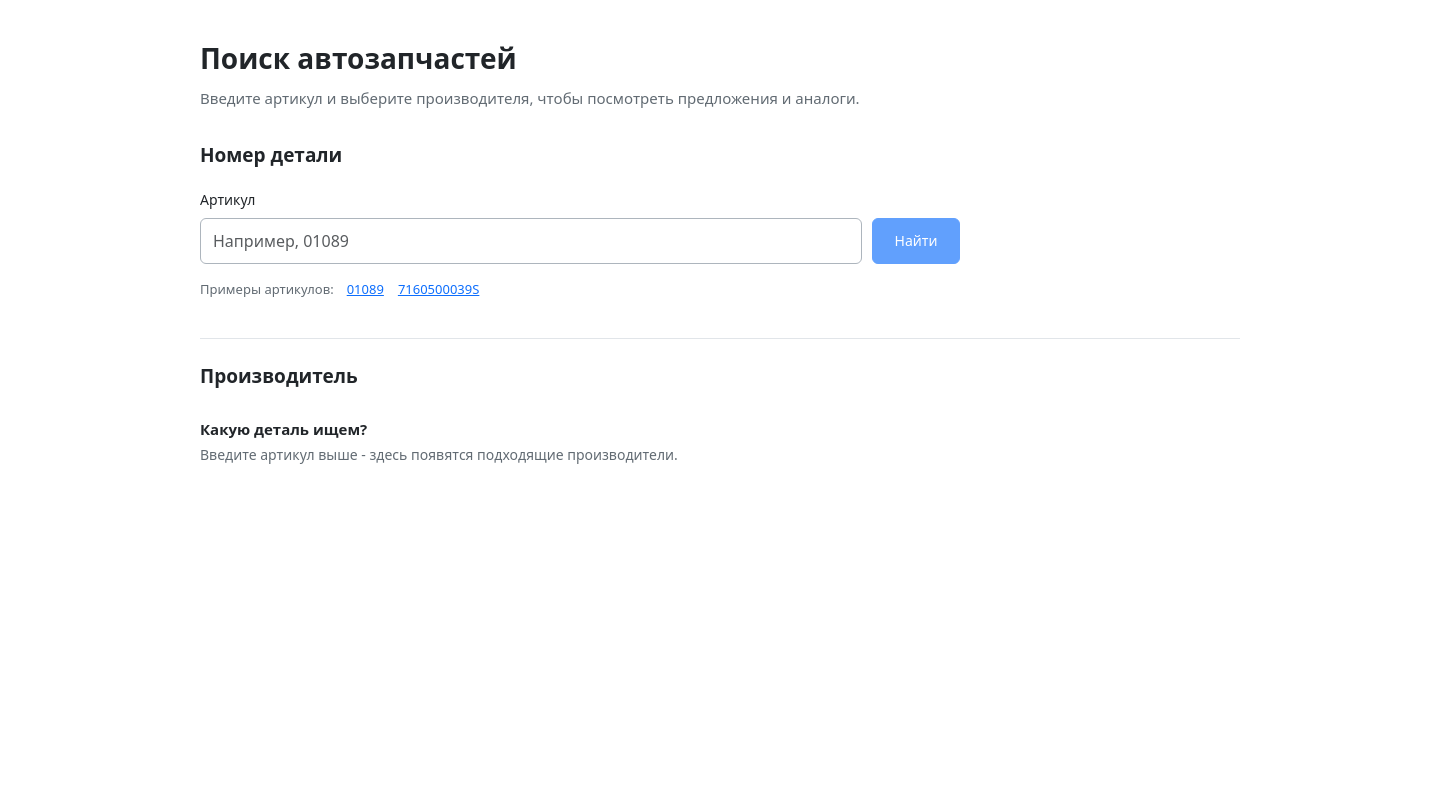
Test case: подбор запчасти › позволяет повторить неудачный запрос предложений без нового ввода
Type "01089" into the field labelled "Артикул" at (531, 241), box top-left (200, 218), bottom-right (862, 264)
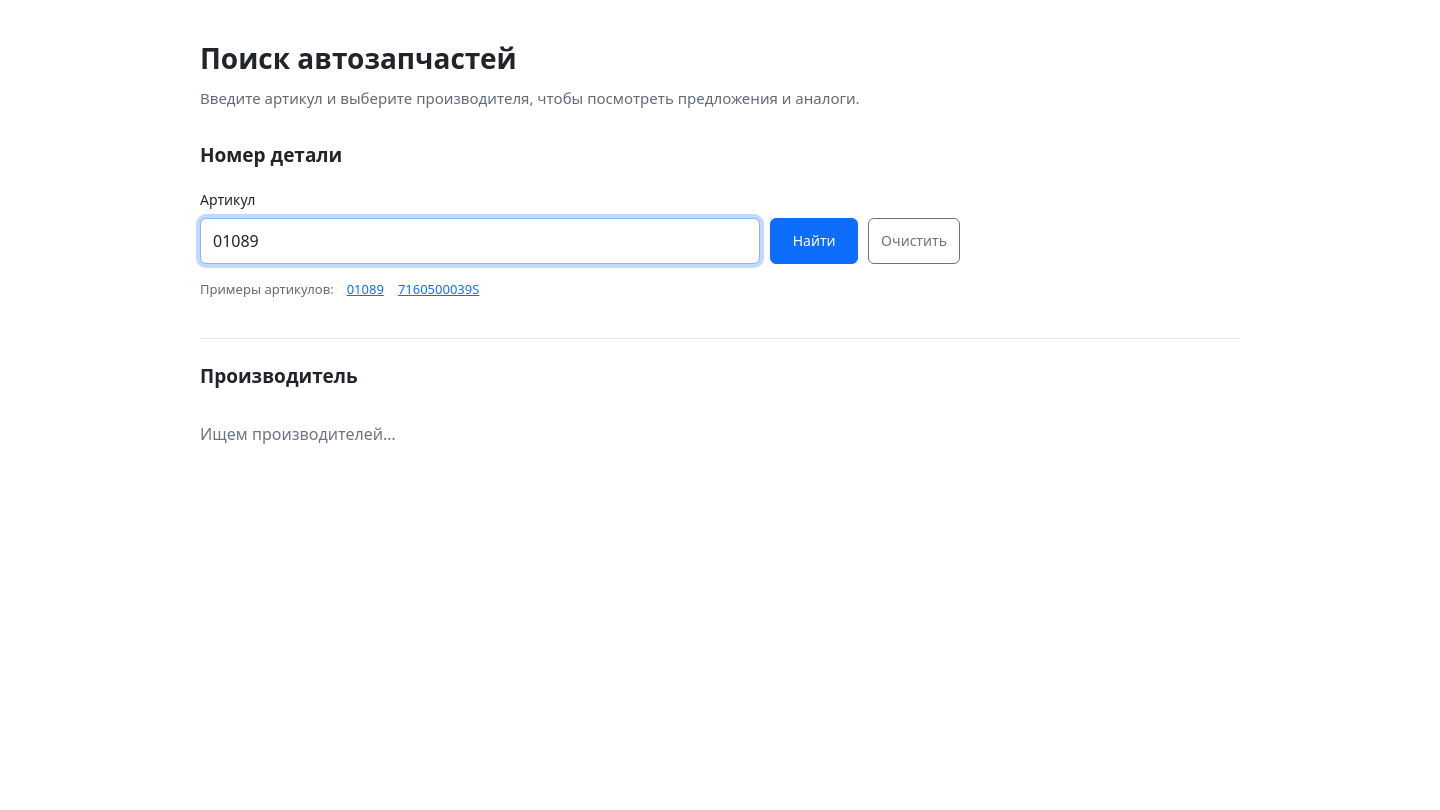
Click the button "Найти" at (814, 241), box top-left (770, 218), bottom-right (858, 264)
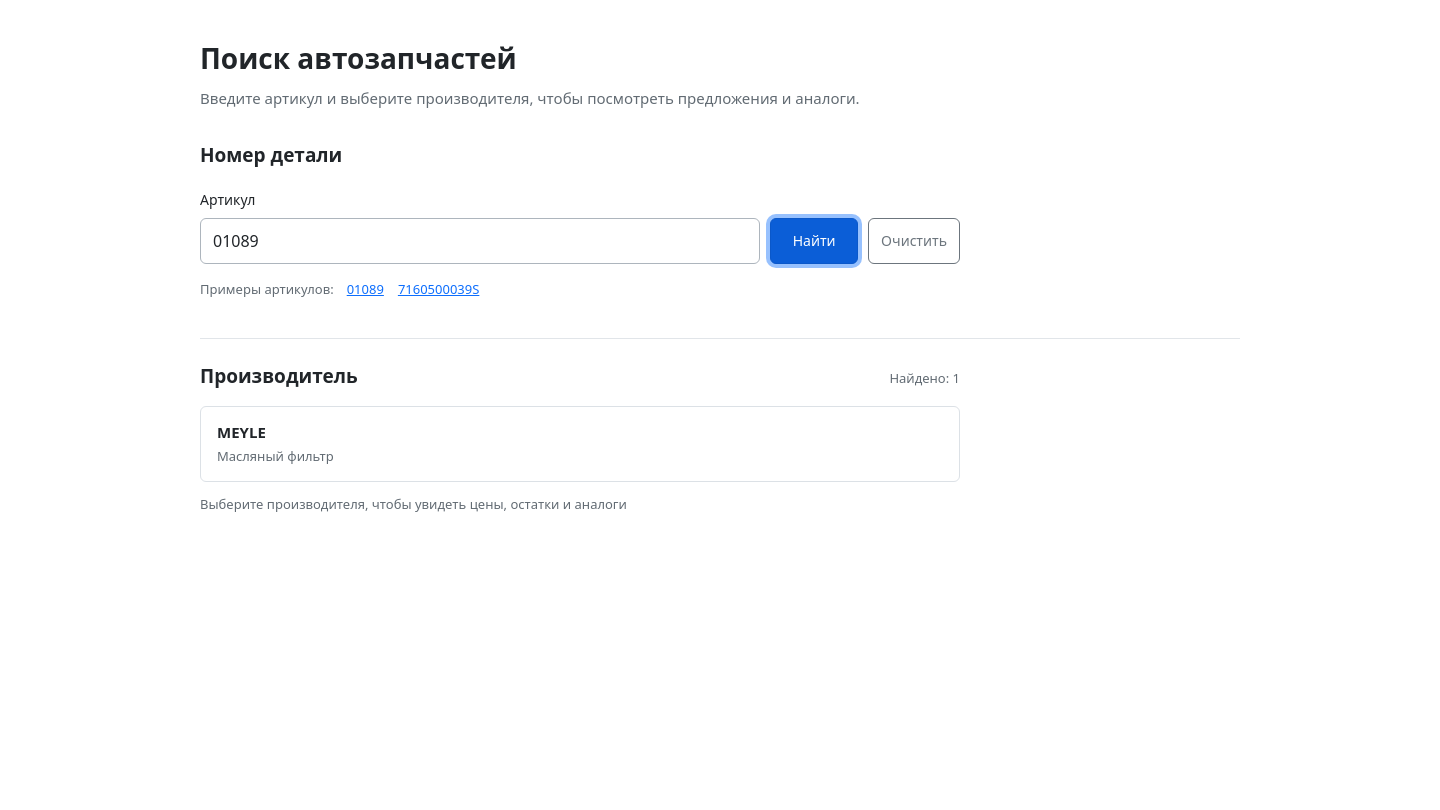
Click the button "MEYLE Масляный фильтр" at (241, 432), box top-left (200, 406), bottom-right (960, 482)
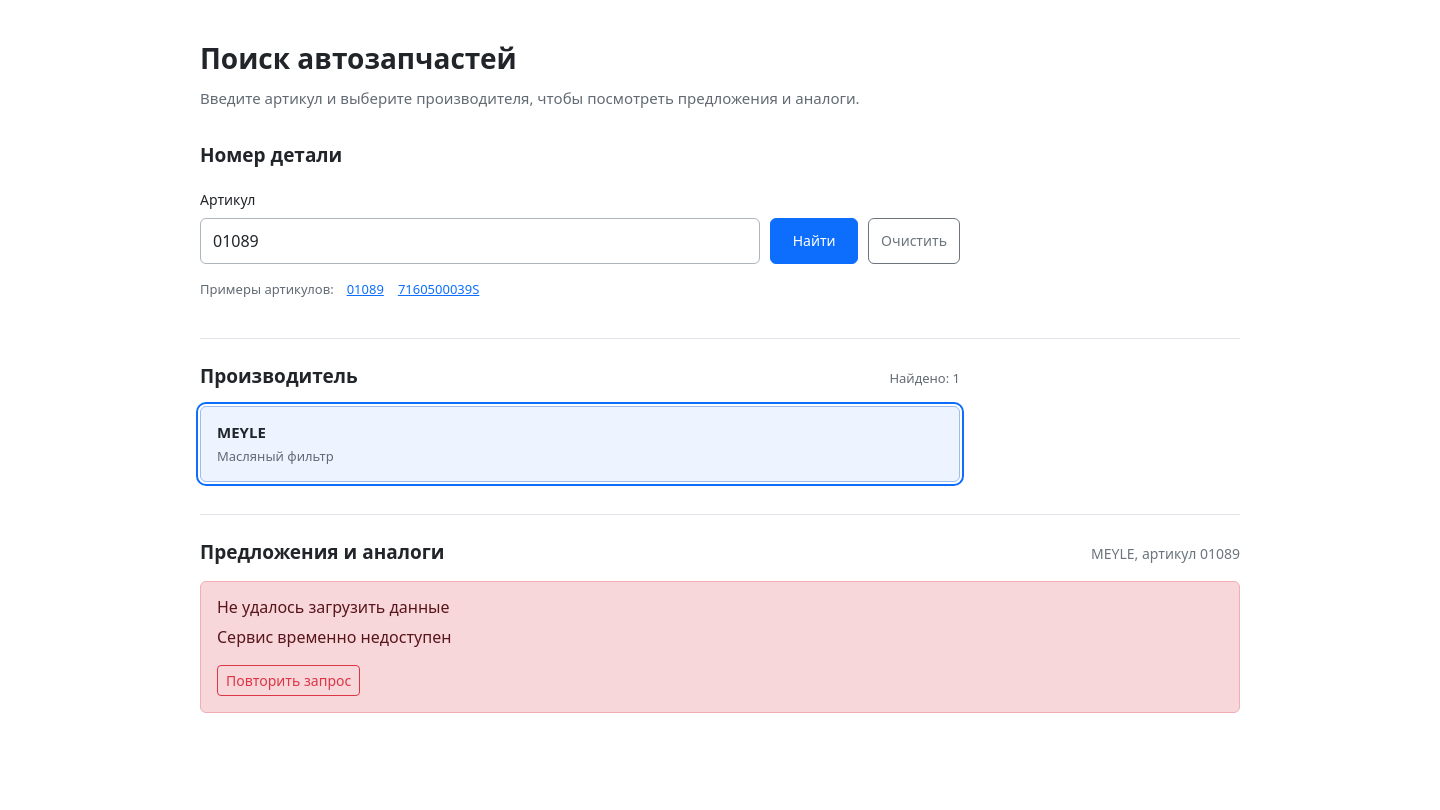
Check: the message shows "Сервис временно недоступен", box top-left (217, 626), bottom-right (451, 648)
Click the button "Повторить запрос" at (289, 681), box top-left (217, 665), bottom-right (360, 696)
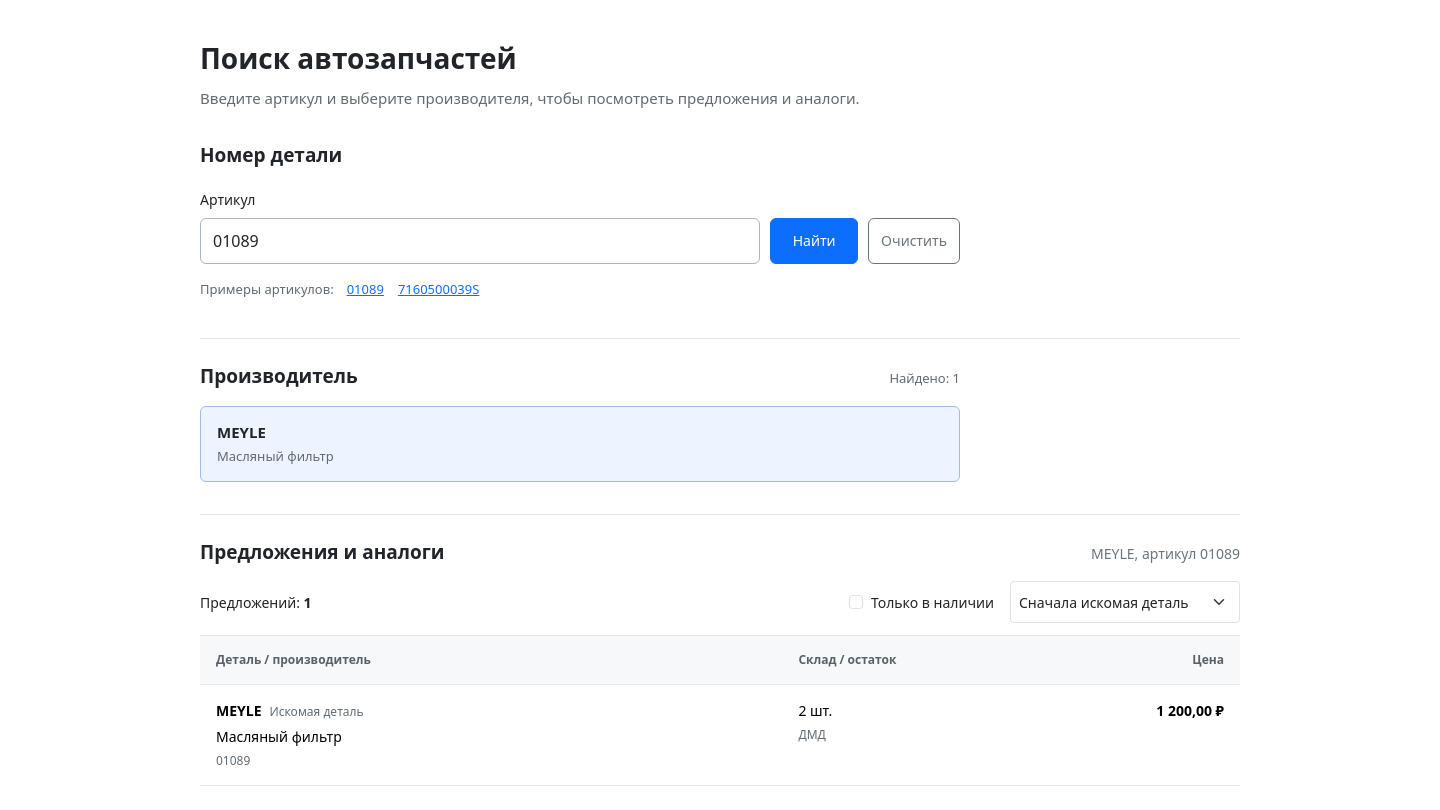
Check: the table is shown, box top-left (200, 635), bottom-right (1240, 786)
Check: the message "Не удалось загрузить данные Сервис временно недоступен Повторить запрос" is gone
